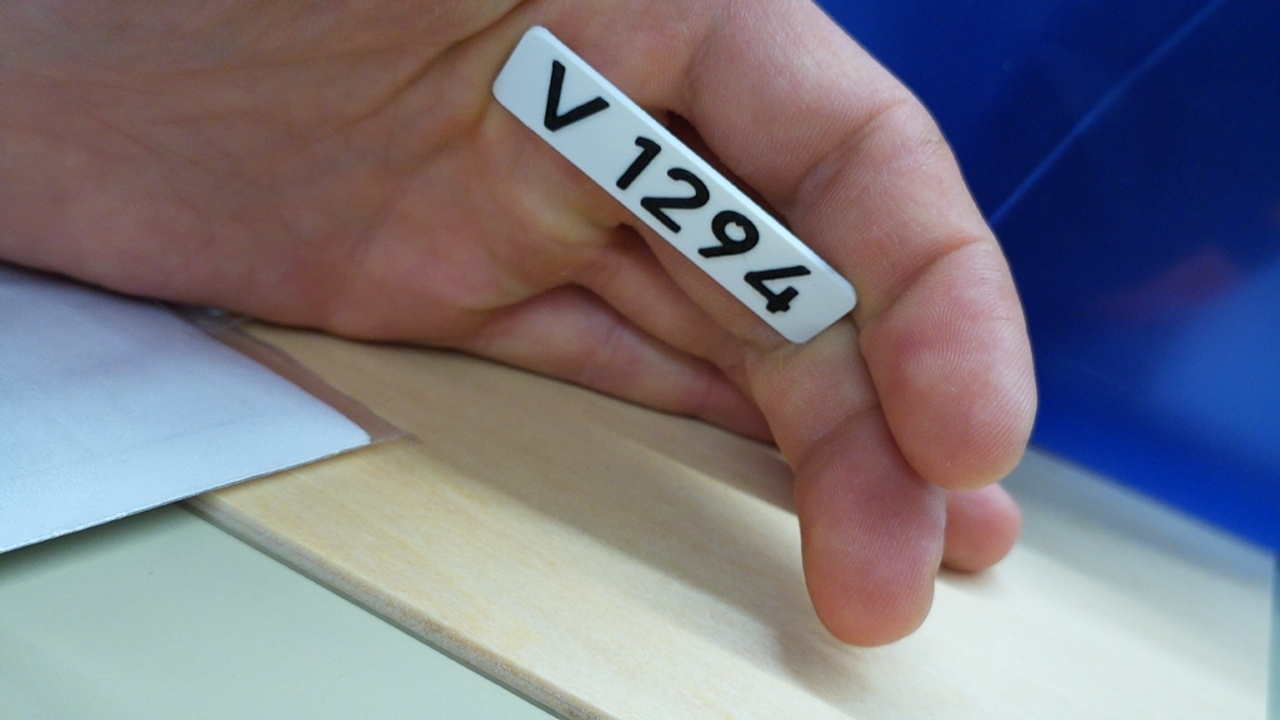license_plate: (488, 18, 860, 347)
